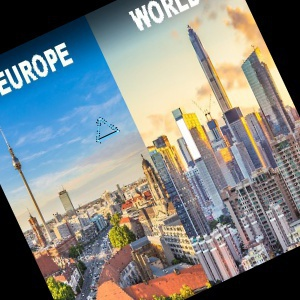triangle: (92, 115, 120, 143)
